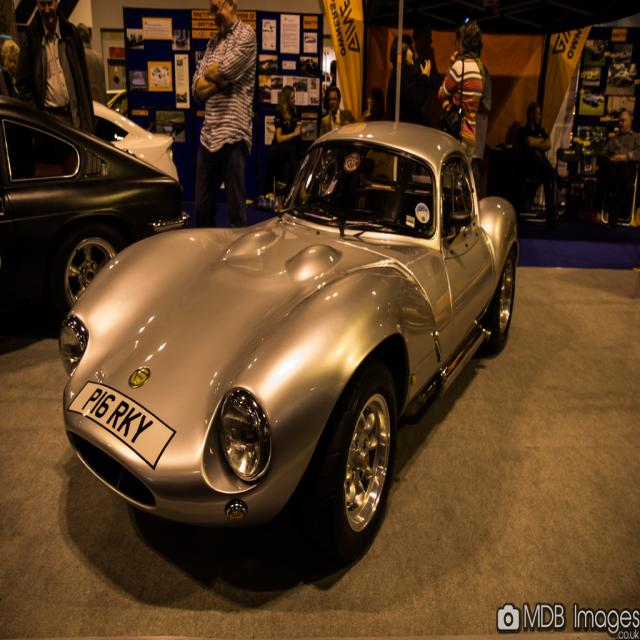car: (56, 120, 515, 550)
